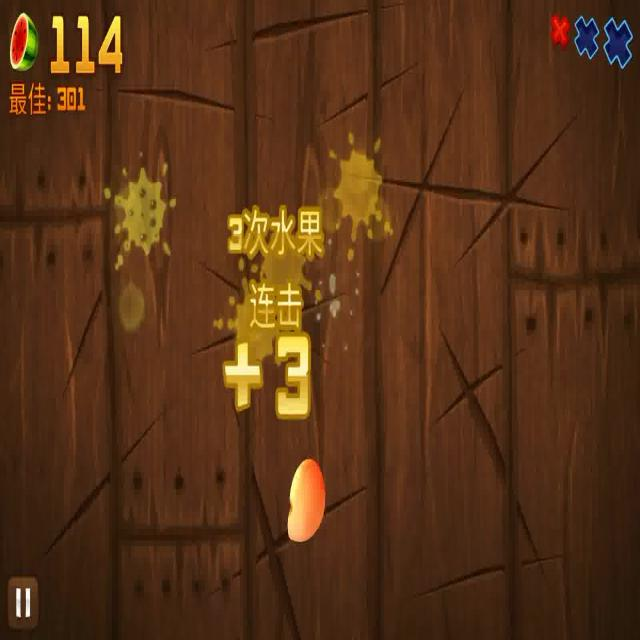fruit: (288, 453, 324, 545)
